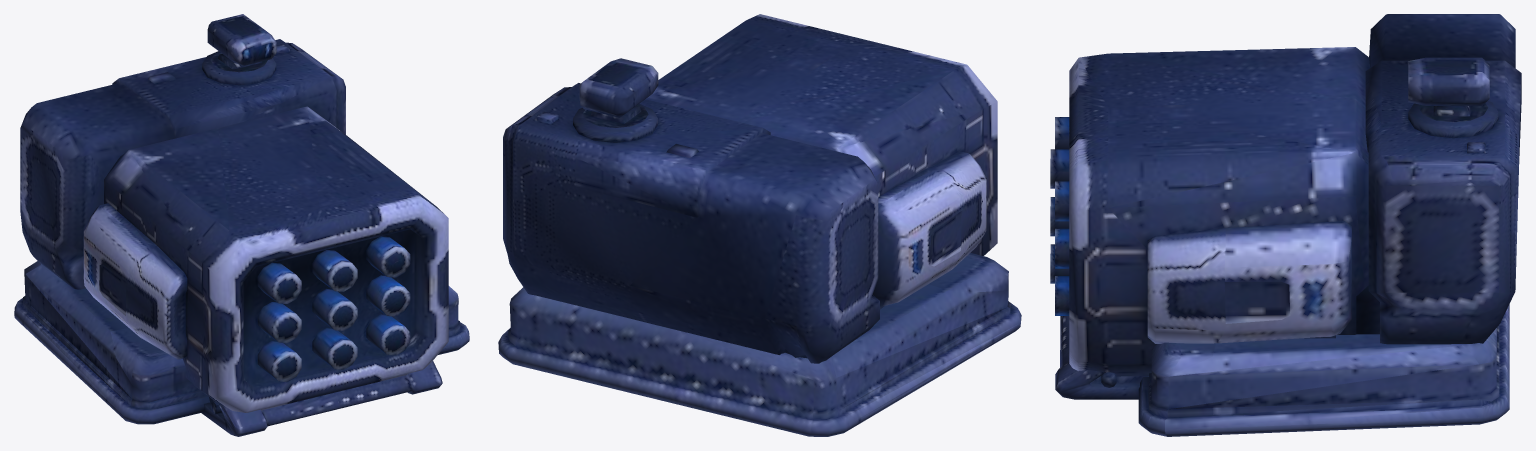
3 views of the same model, side by side, from view 1: azimuth 30°, elevation 25°; view 2: azimuth 150°, elevation 25°; view 3: azimuth 270°, elevation 25° (orthographic). The views are drawn at different scales.
Visible parts, largest first — view 1: Barrel, TurretBase; view 2: Barrel, TurretBase; view 3: Barrel, TurretBase.
Boxes of the visible parts, left/top/right/bottom form: Barrel: left=20, top=14, right=448, bottom=412; TurretBase: left=14, top=261, right=469, bottom=436; Barrel: left=503, top=14, right=997, bottom=363; TurretBase: left=498, top=253, right=1021, bottom=436; Barrel: left=1050, top=14, right=1521, bottom=376; TurretBase: left=1055, top=304, right=1509, bottom=436.
Bounding box in the file's own units: 167 × 163 × 118.
Materials: 1 (1 with a texture image).
